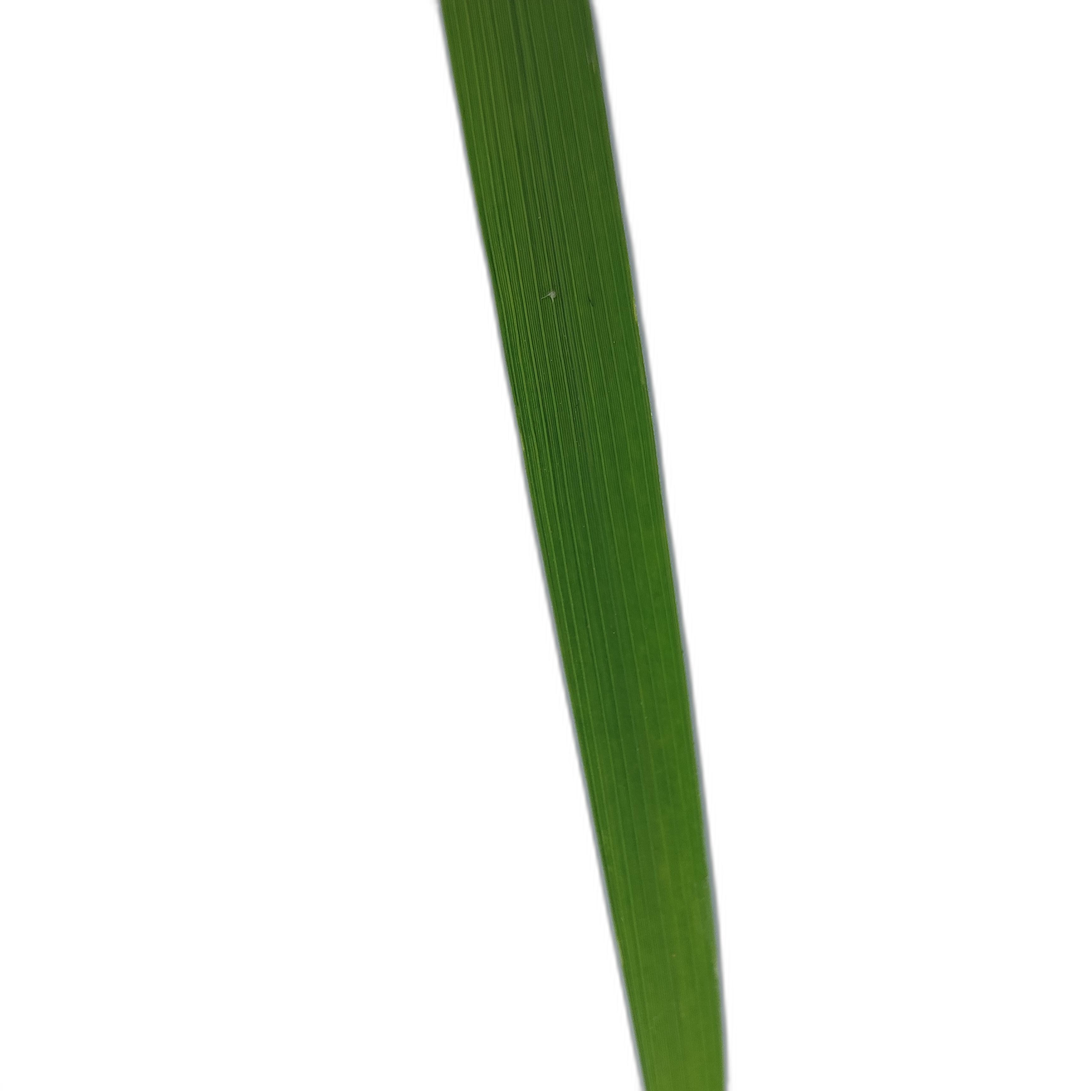Healthy: (442, 0, 725, 1091)
